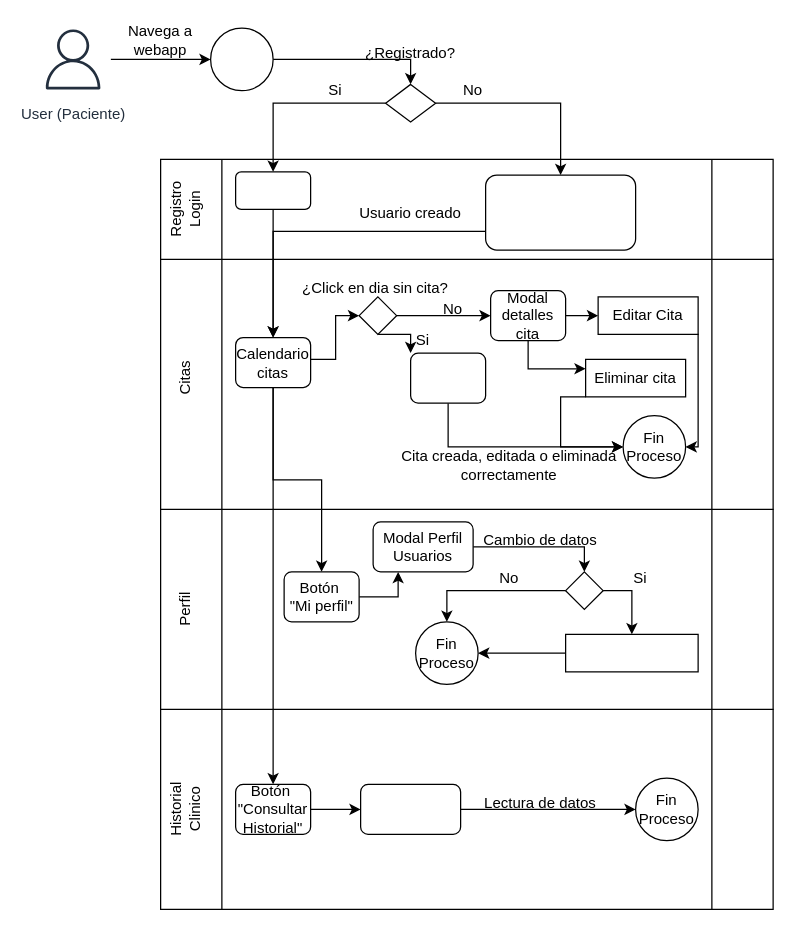
Image size: 795x931. Some labels were removed from this diagram. Here are the shapes that lost their labels. From the top down, the centre of each, then its label:
the point at 241,59: Inicio Proceso
the point at 272,190: Iniciar Sesión
the point at 560,212: Modal de registro de usuario
the point at 447,377: Modal cita nueva
the point at 631,652: Actualizar datos
the point at 410,808: Modal Historial
